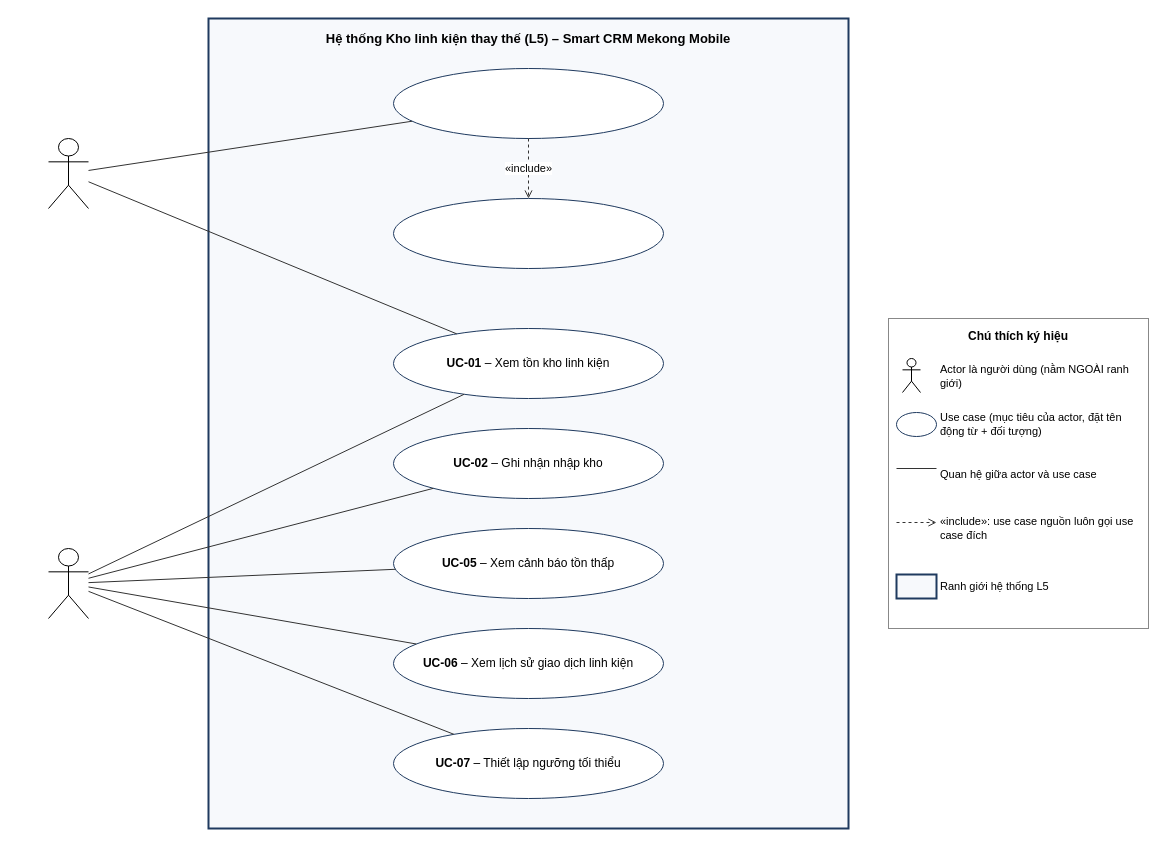
The diagram is 1166 pixels wide and 846 high, and some of its shapes have lost their labels. The shapes that lost their labels are listed below. From the top down, each one's centre as x and y in pixels, then its label:
At point 528,103: "UC-03 – Xuất linh kiện cho phiếu bảo hành".
At point 68,173: "Kỹ thuật viên".
At point 528,233: "UC-04 – Kiểm tra số tồn trước khi xuất".
At point 68,583: "Quản lý trung tâm".
